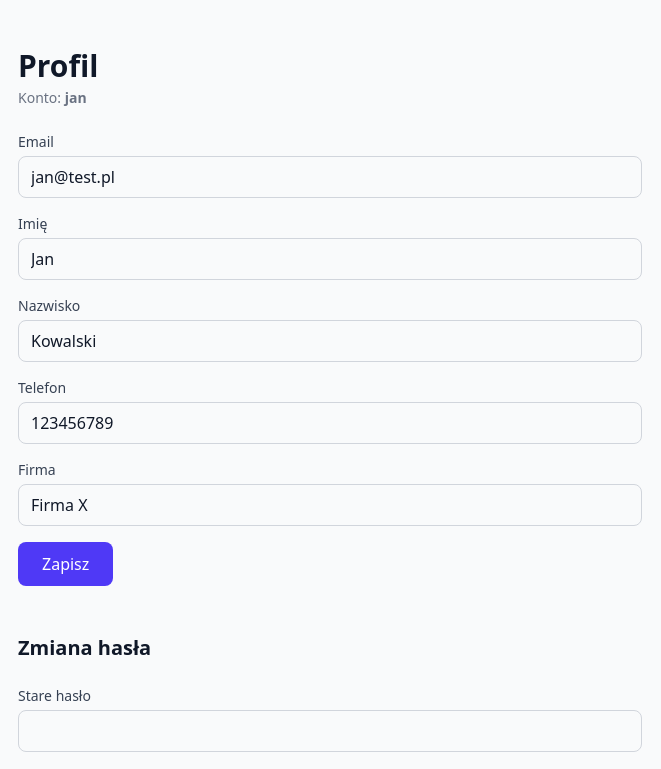
Scenario: ProfilePage — password form › shows success message after changing password
This screenshot has width=661, height=769.
Type "OldPass1!" into the password field labelled "Stare hasło" at (330, 731), box [18,710,642,752]
(page scrolled)
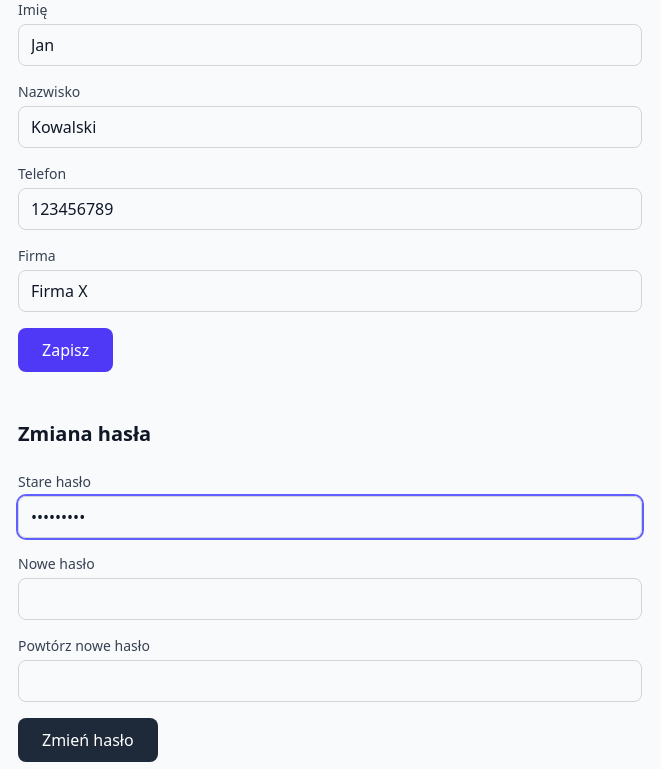
Type "NewPass1!" into the password field labelled "Nowe hasło" at (330, 599), box [18,578,642,620]
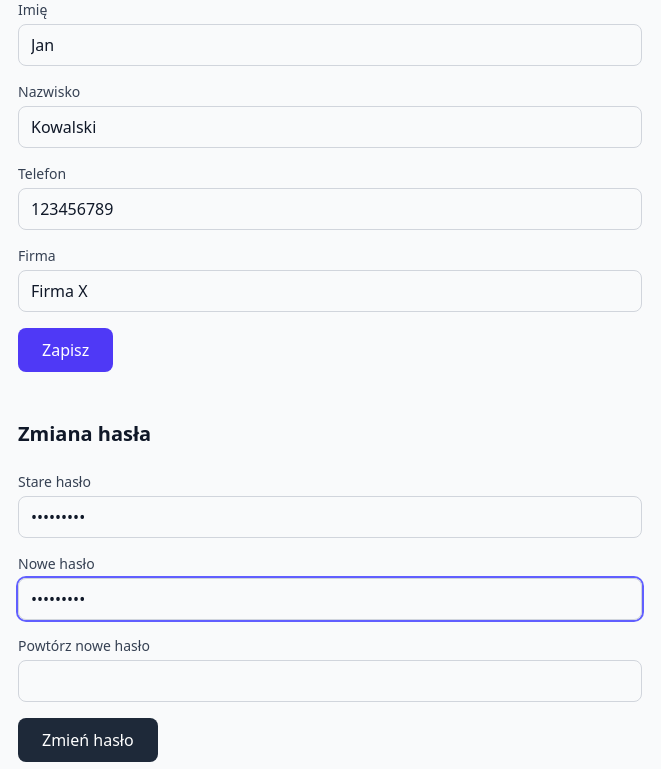
Type "NewPass1!" into the password field labelled "Powtórz nowe hasło" at (330, 681), box [18,660,642,702]
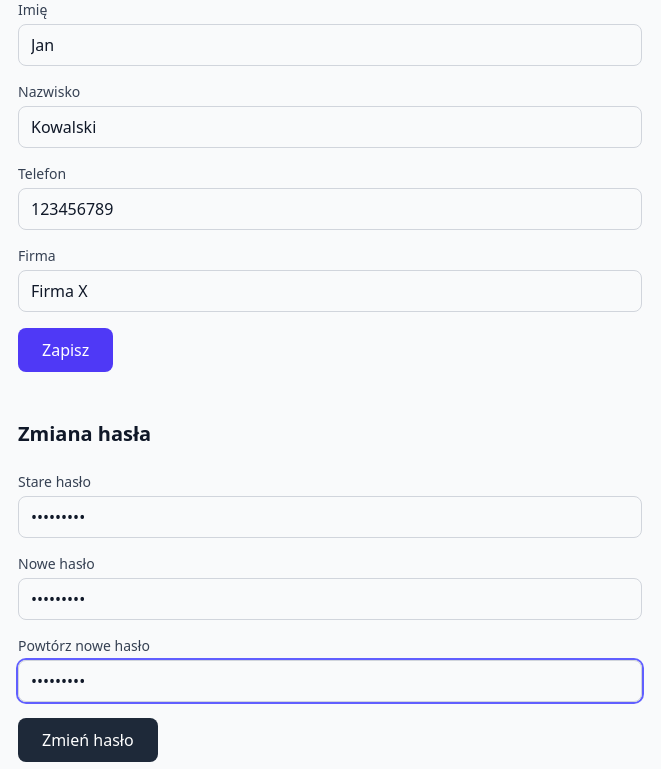
Click the button "Zmień hasło" at (88, 740), box [18,718,158,762]
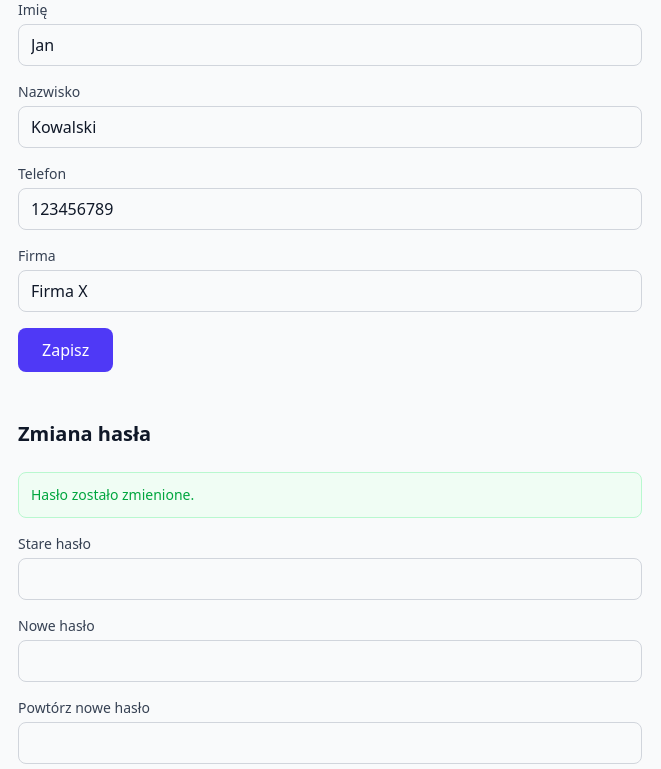
Now the text "Hasło zostało zmienione." is shown, box [18,472,642,518]
